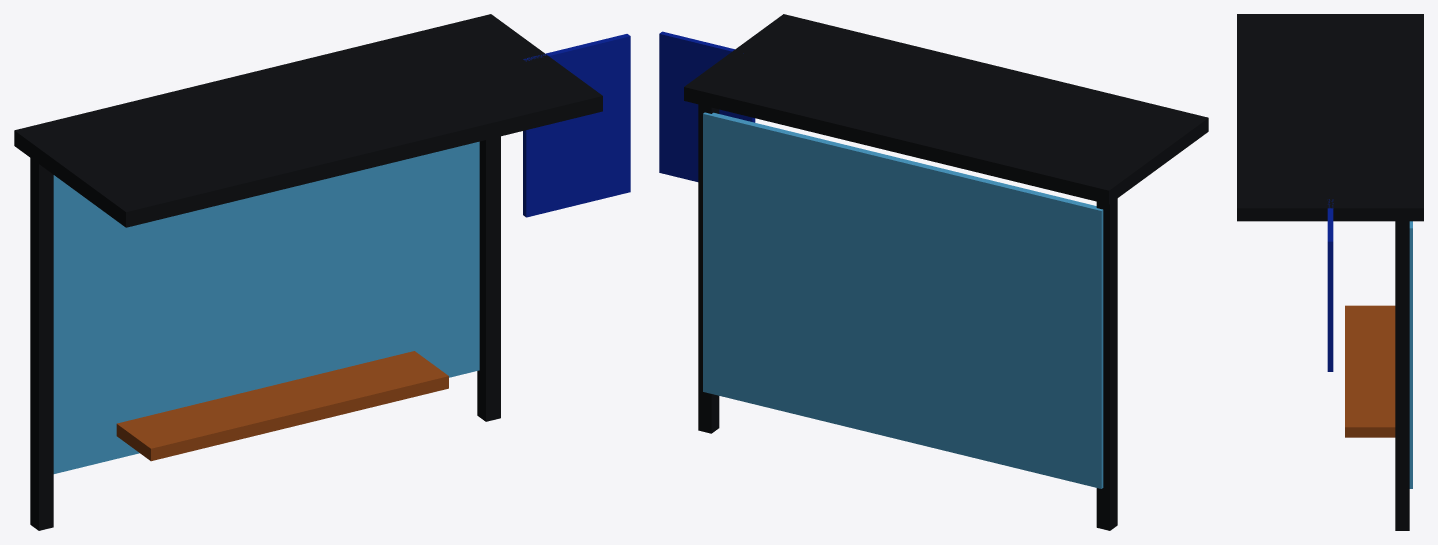
File: bus_stop_shelter.obj
3 views of the same model, side by side, from view 1: azimuth 30°, elevation 25°; view 2: azimuth 150°, elevation 25°; view 3: azimuth 270°, elevation 25° (orthographic). The views are drawn at different scales.
Visible parts, largest first — view 1: bus_stop_shelter; view 2: bus_stop_shelter; view 3: bus_stop_shelter.
Part boxes in pixels (<box>): bus_stop_shelter: <box>14,14,630,530</box>; bus_stop_shelter: <box>659,14,1208,530</box>; bus_stop_shelter: <box>1237,14,1423,530</box>.
Bounding box in the file's own units: 3.75 × 2.5 × 1.3.
